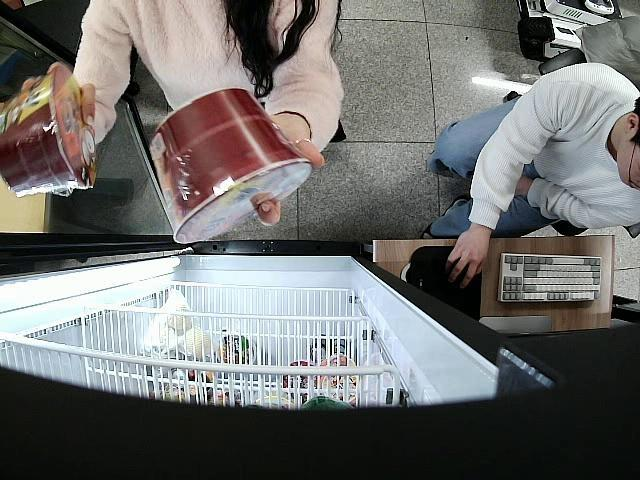05_nuguri_L: (147, 84, 313, 244), (0, 61, 98, 198)
